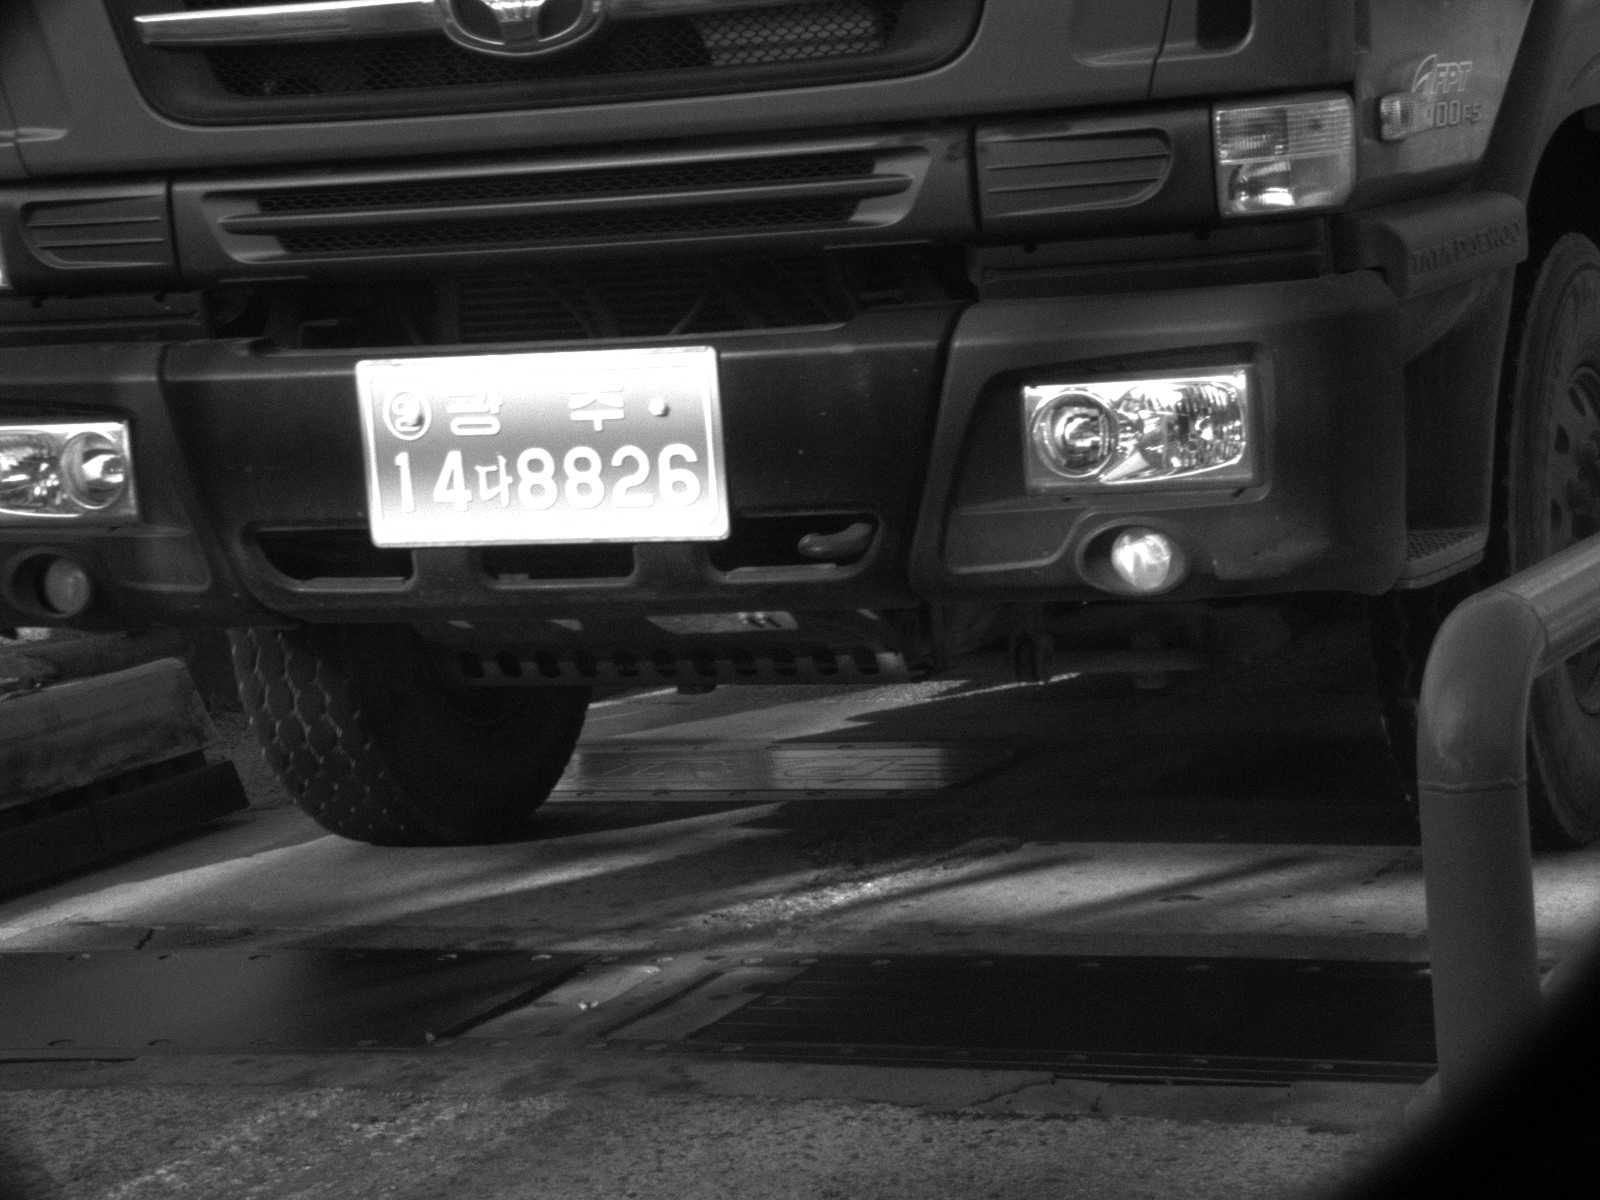car: (1, 1, 1599, 852)
plate: (340, 341, 742, 555)
